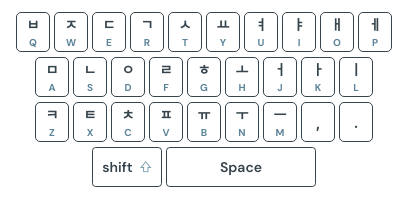
it: Keyboard › Shift 토글: 키캡이 shift 문자로 바뀌고, 입력 후 자동 해제된다
Click the button with test id "kbd-key-Shift" at (127, 167), box x1=92 y1=147 x2=162 y2=187
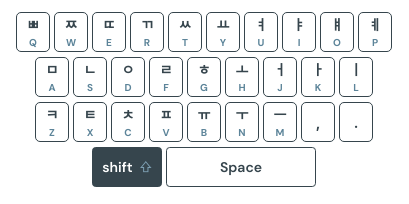
Check: the button with test id "kbd-key-KeyQ" shows "ㅃ"
Click the button with test id "kbd-key-KeyQ" at (33, 32), box x1=16 y1=12 x2=50 y2=52
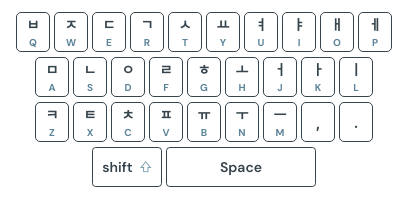
Check: the button with test id "kbd-key-KeyQ" shows "ㅂ", box x1=16 y1=12 x2=50 y2=52
